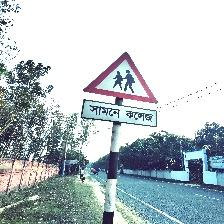College-in-front: (63, 33, 170, 156)
